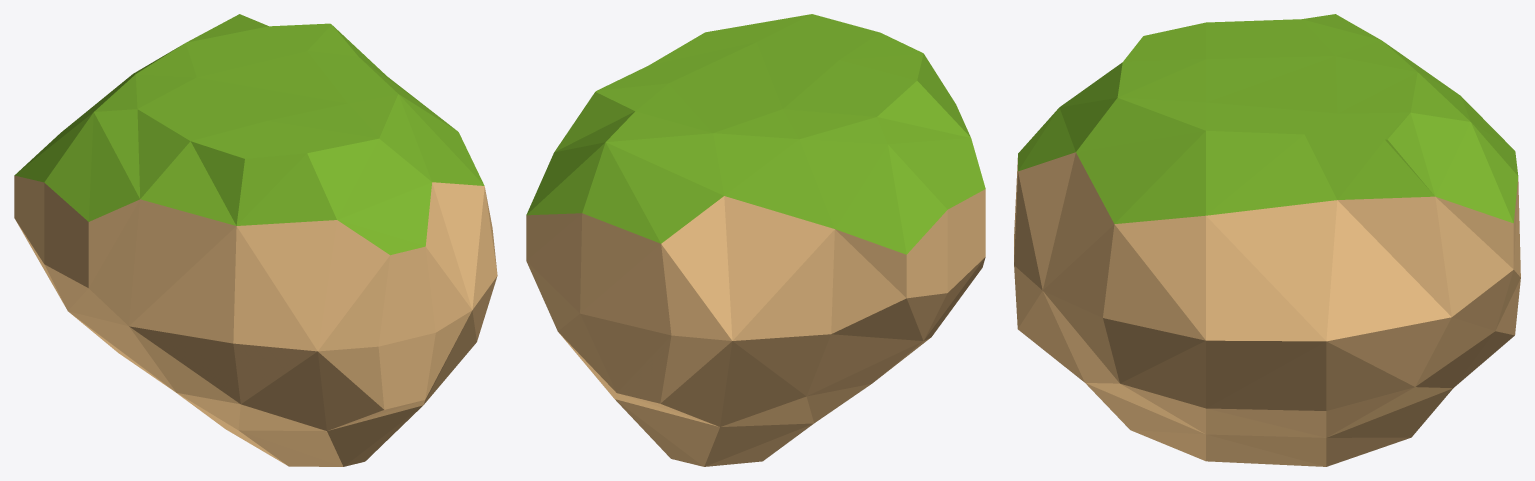
File: Island-002.fbx
3 renders of one model, left to right at view 1: azimuth 30°, elevation 25°; view 2: azimuth 150°, elevation 25°; view 3: azimuth 270°, elevation 25°, orthographic. The views are drawn at different scales.
Visible parts, largest first — view 1: Island-002; view 2: Island-002; view 3: Island-002.
Part boxes in pixels (<box>): Island-002: <box>14,14,497,466</box>; Island-002: <box>526,14,985,466</box>; Island-002: <box>1014,14,1520,466</box>.
Size of the model in its own units: 854 by 740 by 927.
Materials: 1 (1 with a texture image).
